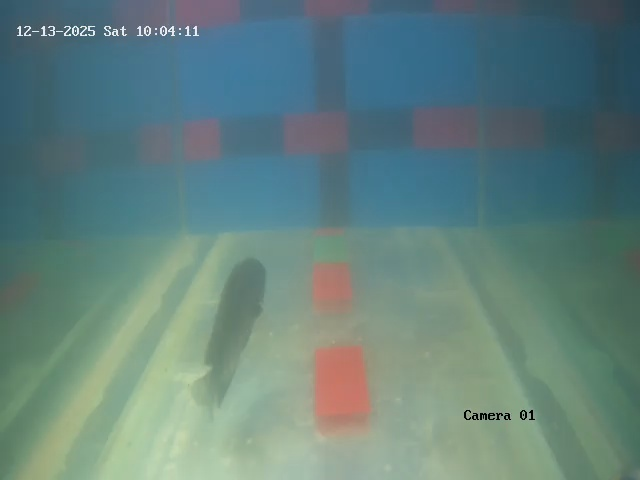fish: (211, 256, 272, 373)
